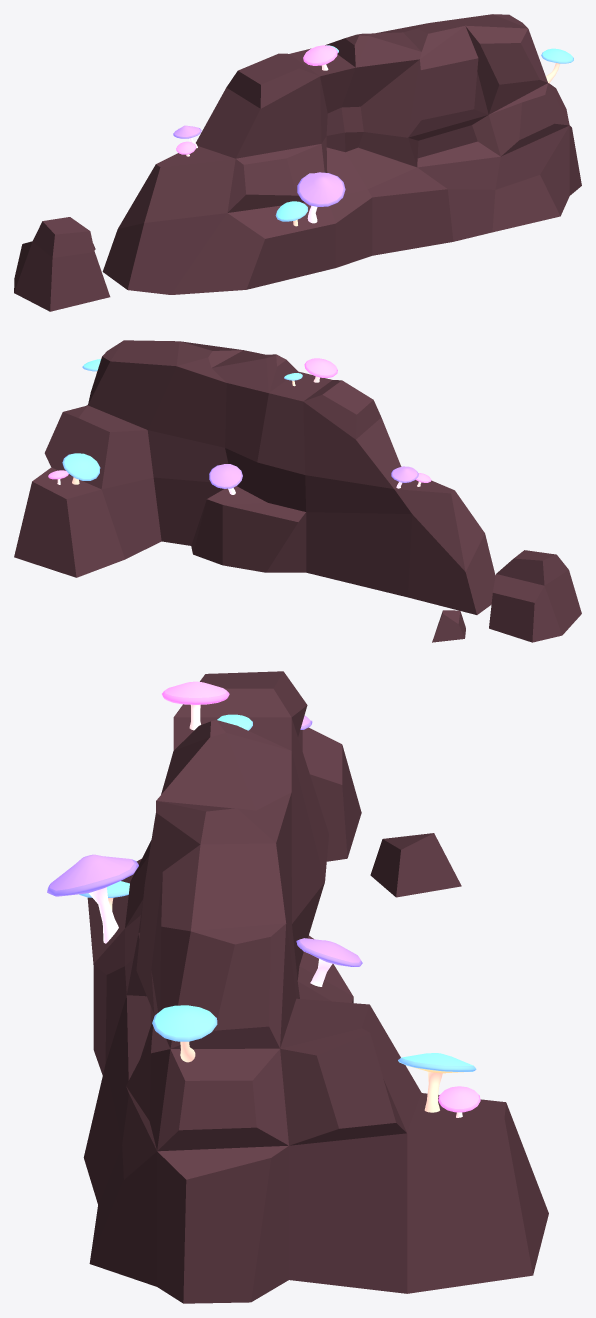
File: ruína_cogu_02.fbx
The picture shows the model from 3 angles, top to bottom: view 1: azimuth 30°, elevation 25°; view 2: azimuth 150°, elevation 25°; view 3: azimuth 270°, elevation 25°; orthographic projection. The views are drawn at different scales.
Parts seen in each view (by area): view 1: ruína_cogu_02; view 2: ruína_cogu_02; view 3: ruína_cogu_02.
Boxes of the visible parts, left/top/right/bottom form: ruína_cogu_02: left=14, top=14, right=581, bottom=311; ruína_cogu_02: left=14, top=340, right=581, bottom=642; ruína_cogu_02: left=47, top=671, right=548, bottom=1303.
Bounding box in the file's own units: 2194 × 785 × 924.
